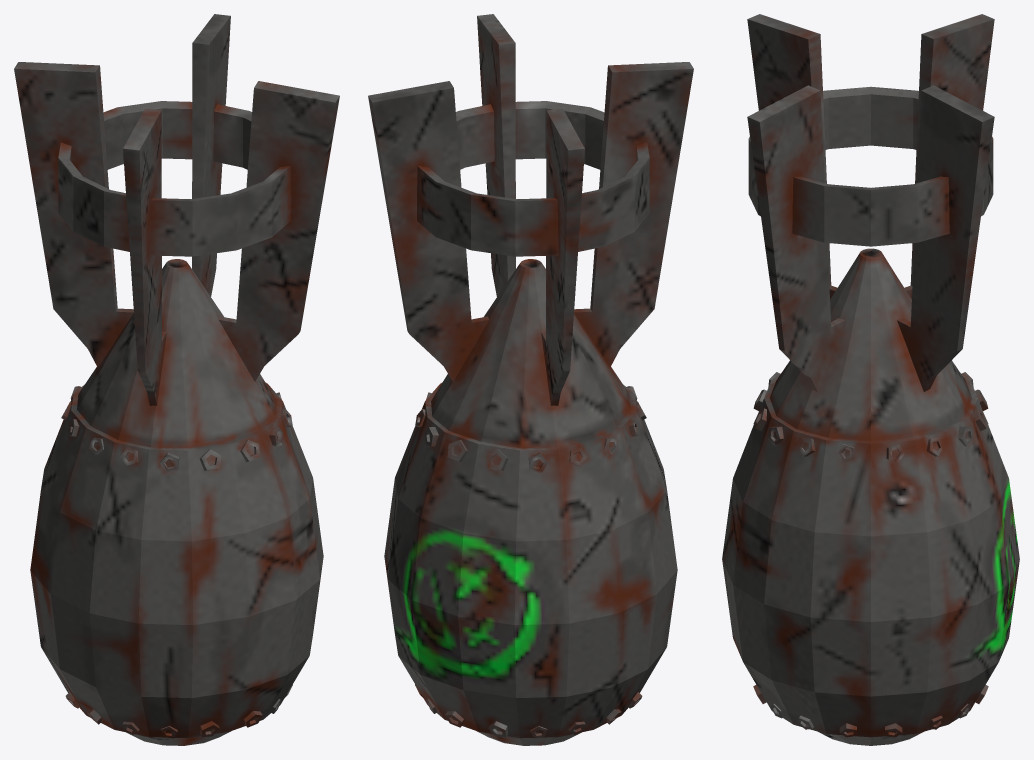
Rendered from bomb.obj.
The picture shows the model from 3 angles, left to right: view 1: azimuth 30°, elevation 25°; view 2: azimuth 150°, elevation 25°; view 3: azimuth 270°, elevation 25°; orthographic projection. The views are drawn at different scales.
Parts seen in each view (by area): view 1: Sphere_Sphere; view 2: Sphere_Sphere; view 3: Sphere_Sphere.
Boxes of the visible parts, <box> form: Sphere_Sphere: <box>14,14,339,745</box>; Sphere_Sphere: <box>368,14,693,745</box>; Sphere_Sphere: <box>722,14,1019,745</box>.
Bounding box in the file's own units: 3.43 × 8.59 × 3.43.
Materials: 1 (1 with a texture image).
